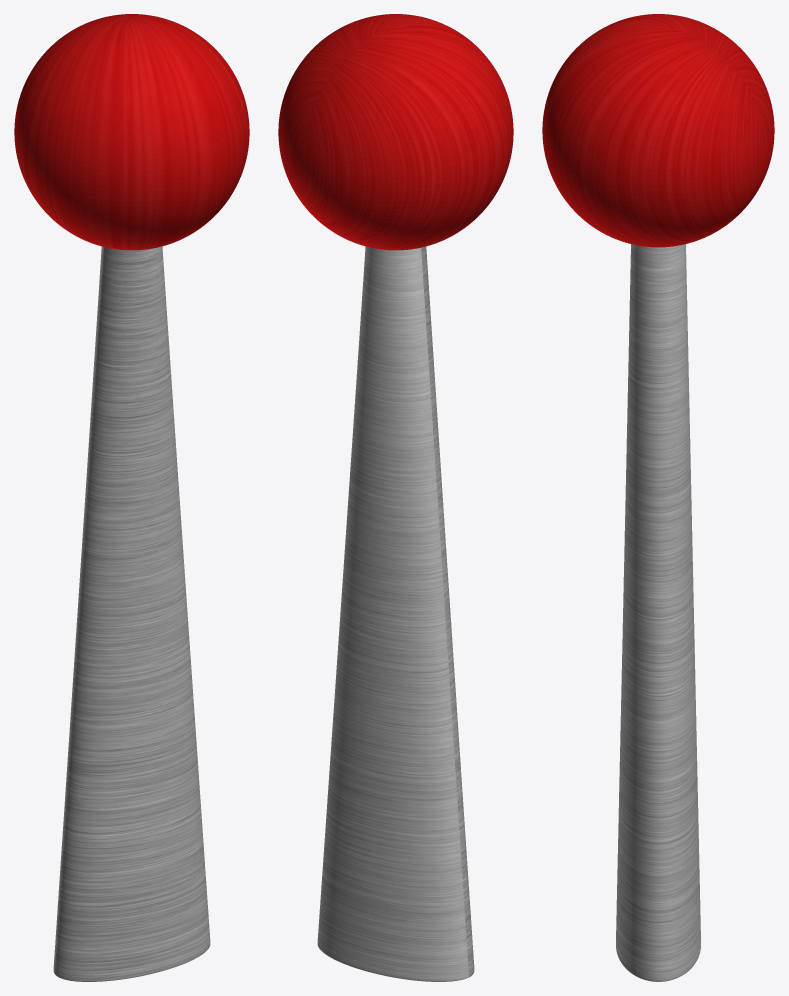
Rendered from Lever_arm-door-2.obj.
3 renders of one model, left to right at view 1: azimuth 30°, elevation 25°; view 2: azimuth 150°, elevation 25°; view 3: azimuth 270°, elevation 25°, orthographic.
Parts seen in each view (by area): view 1: Sphere; view 2: Sphere; view 3: Sphere.
Part boxes in pixels (left/top/right/bottom): Sphere: left=14, top=14, right=249, bottom=981; Sphere: left=278, top=14, right=513, bottom=981; Sphere: left=542, top=14, right=774, bottom=981.
Size of the model in its own units: 0.6937 by 3.04 by 0.6937.
Materials: 1 (1 with a texture image).
